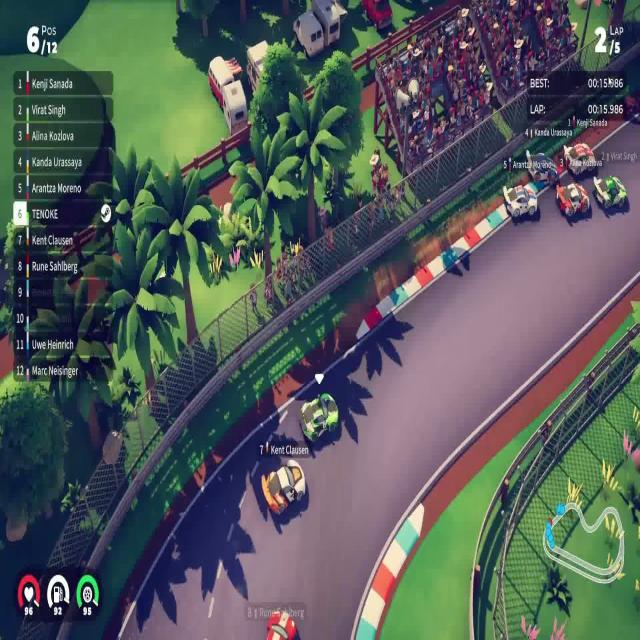car: (261, 458, 306, 517), (298, 390, 339, 444), (502, 181, 538, 222), (562, 141, 602, 177), (554, 180, 590, 218), (525, 148, 560, 187), (592, 173, 627, 211)
